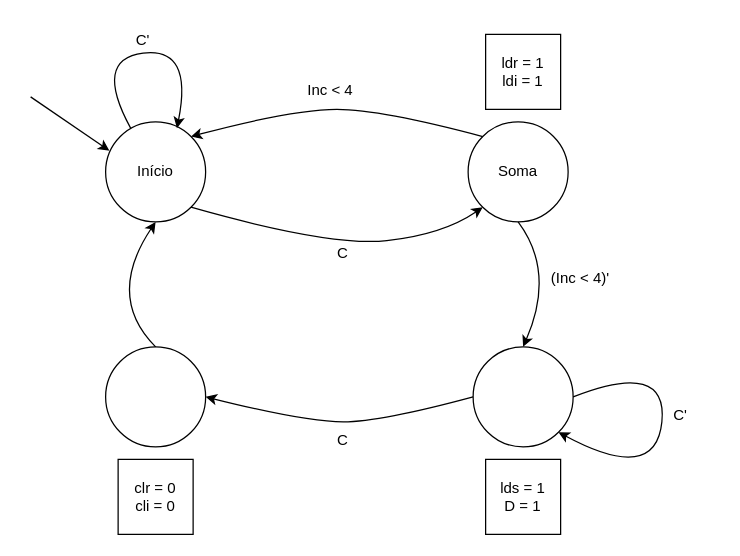
Some shapes in this 740 by 556 pixel diagram are drawn without their labels. The shapes that lost their labels are listed below. From the top down, each one's centre as x and y in pixels, then its label:
the point at 155,396: Limpar
the point at 522,396: Saída
